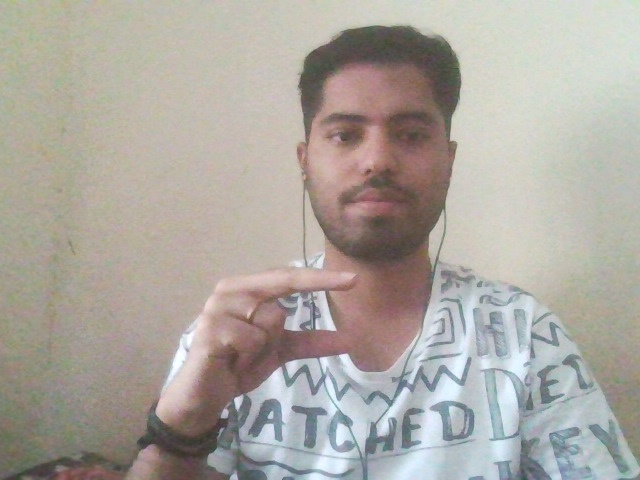No: (111, 235, 384, 434)
